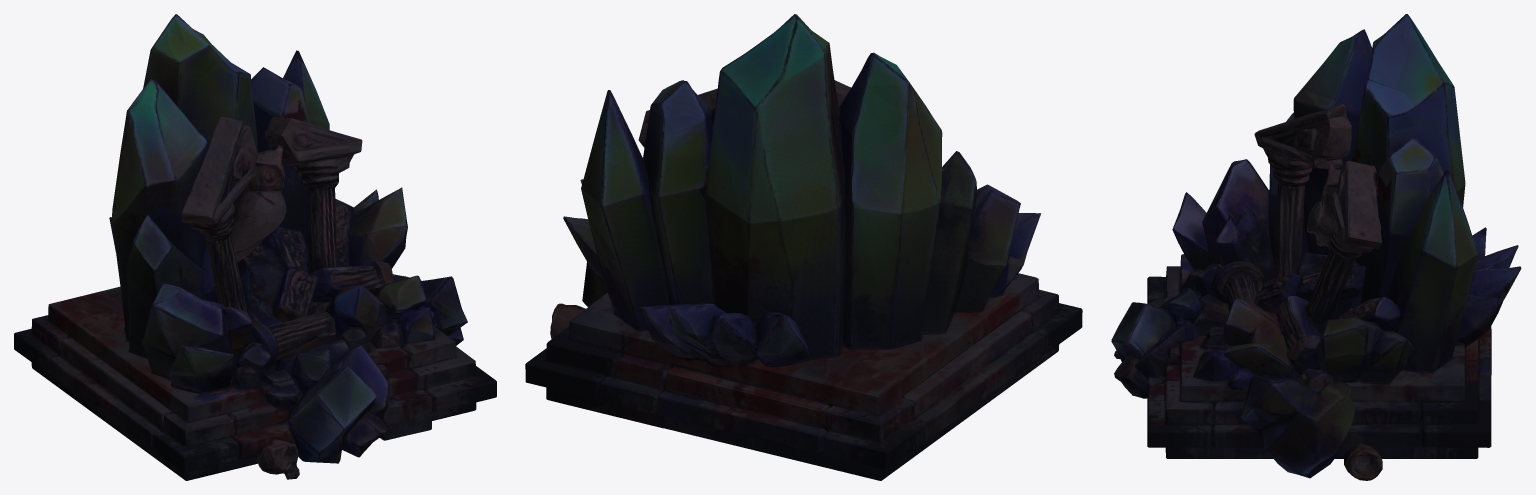
The model's file is bigRock_LOD1.glb.
The picture shows the model from 3 angles, left to right: view 1: azimuth 30°, elevation 25°; view 2: azimuth 150°, elevation 25°; view 3: azimuth 270°, elevation 25°; orthographic projection. The views are drawn at different scales.
Size of the model in its own units: 0.9995 by 0.9718 by 0.9994.
Materials: 1 (1 with a texture image).
